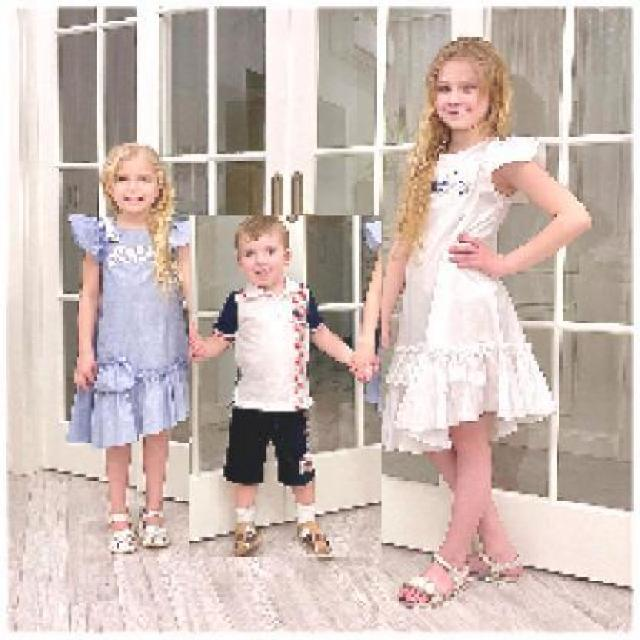child: (188, 216, 382, 558), (65, 141, 218, 550)
